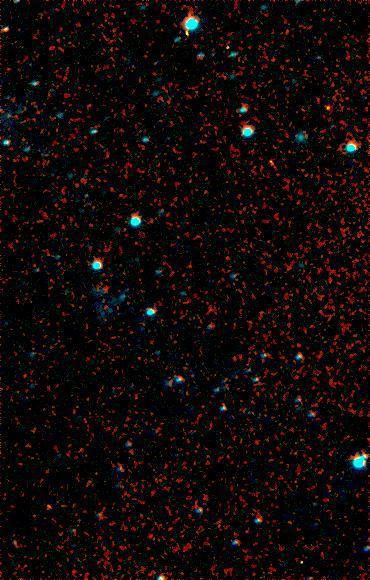star: (33, 492, 63, 522)
